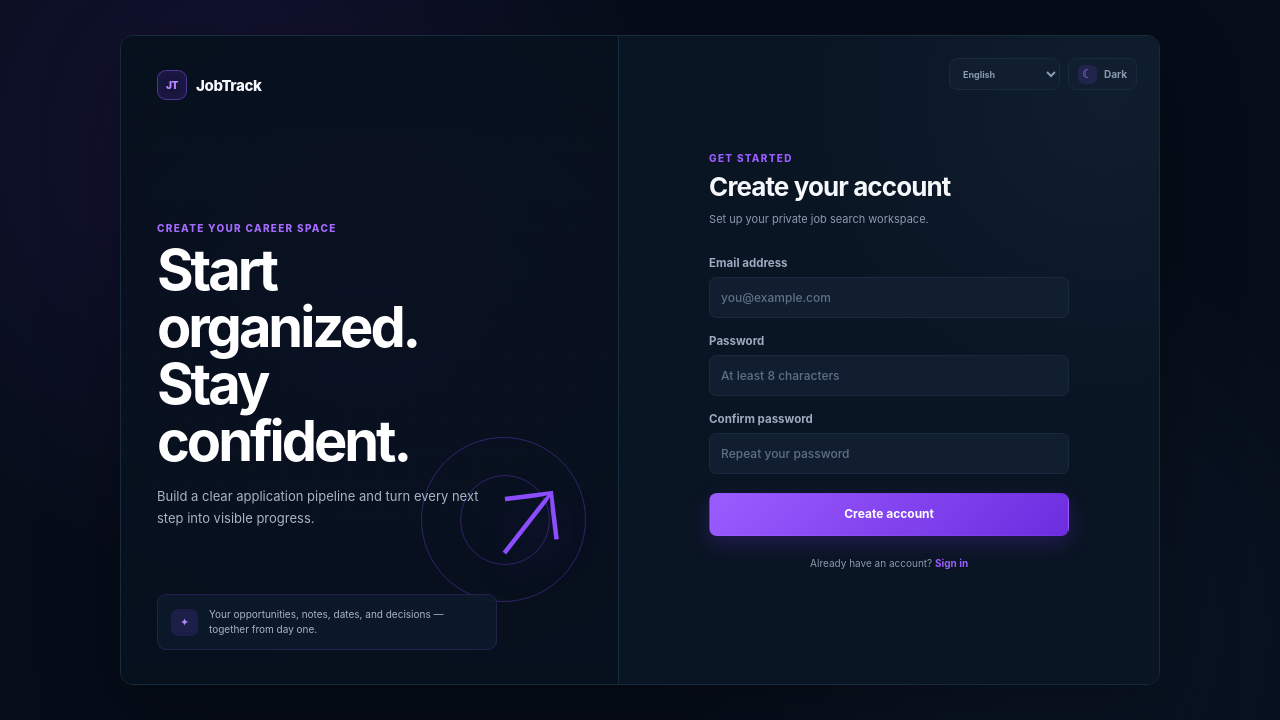
Test: RegisterPage › shows a registration error and does not log in
Type "New.User@Example.com" into the field labelled "Email address" at (889, 298), box [709,277,1069,318]
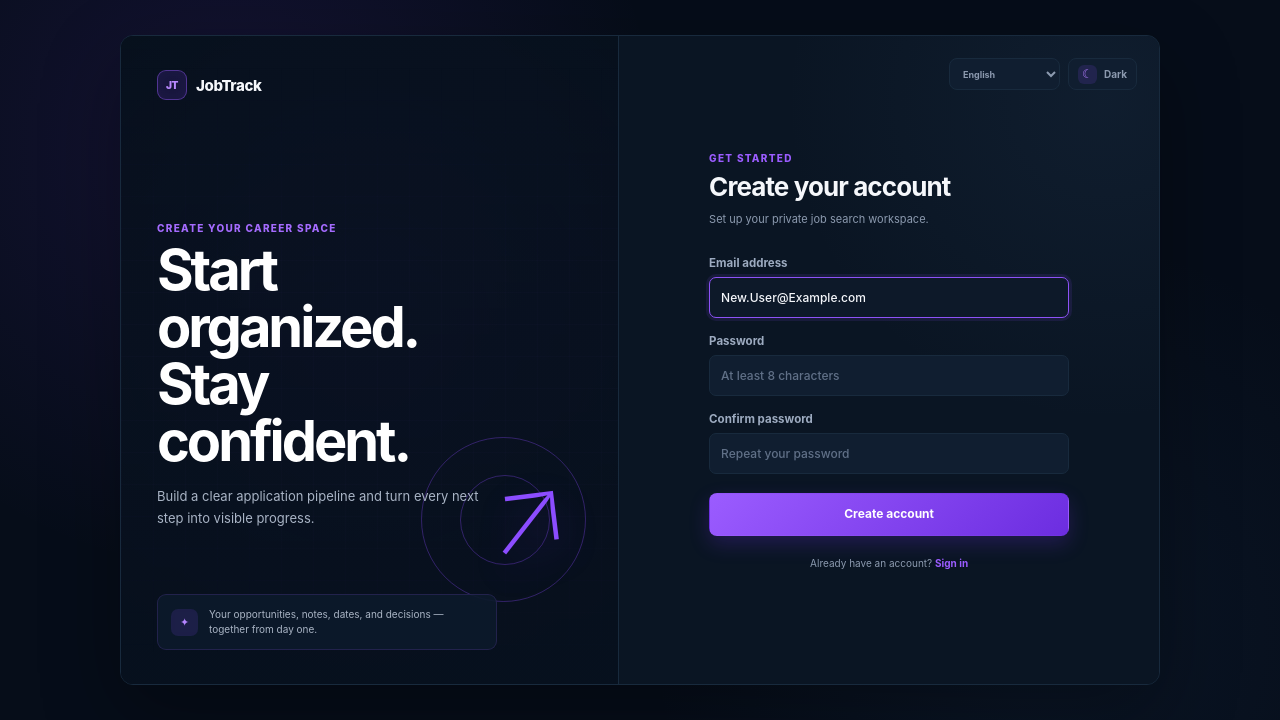
Type "password123" into the password field labelled "Password" at (889, 376), box [709,355,1069,396]
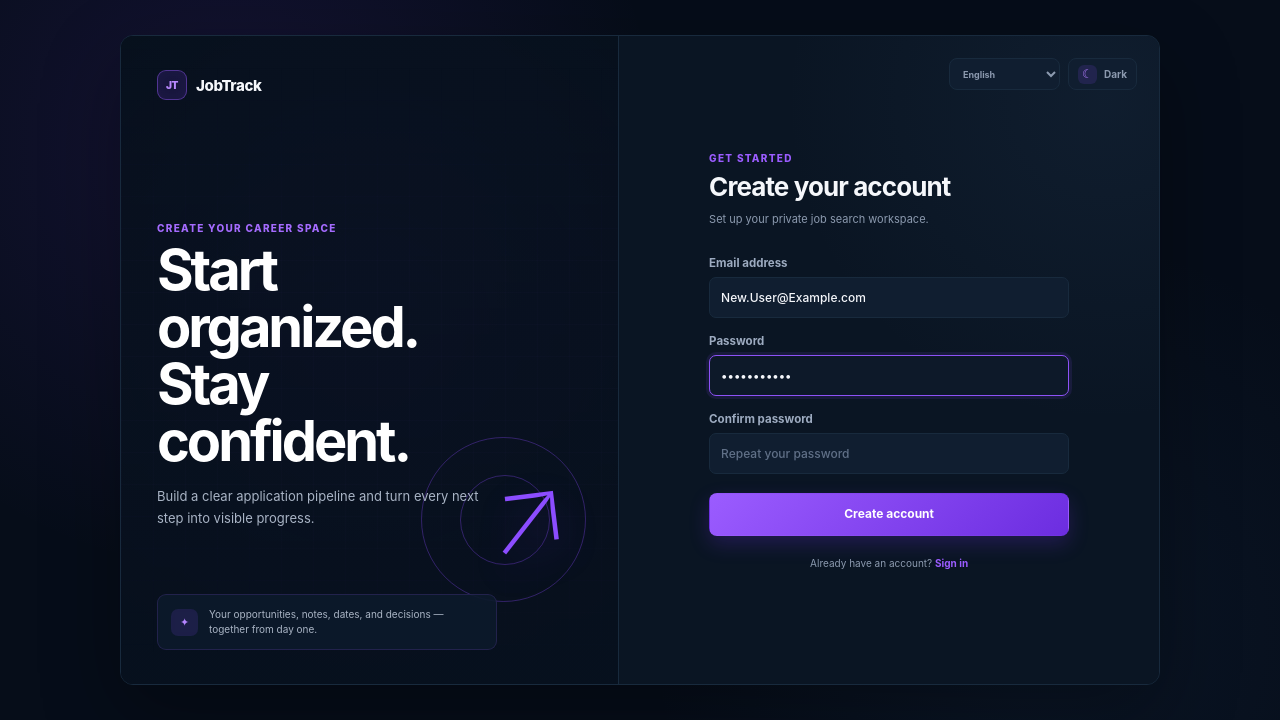
Type "password123" into the password field labelled "Confirm password" at (889, 454), box [709,433,1069,474]
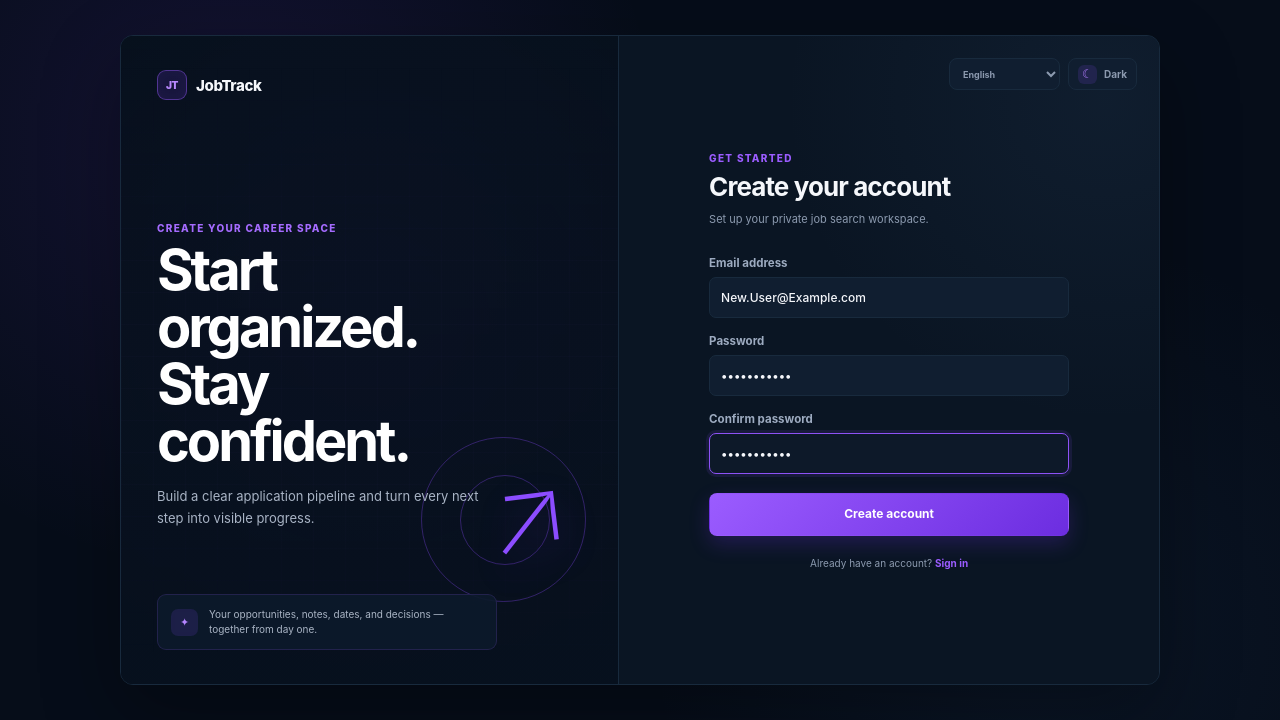
Click the button "Create account" at (889, 514), box [709,493,1069,536]
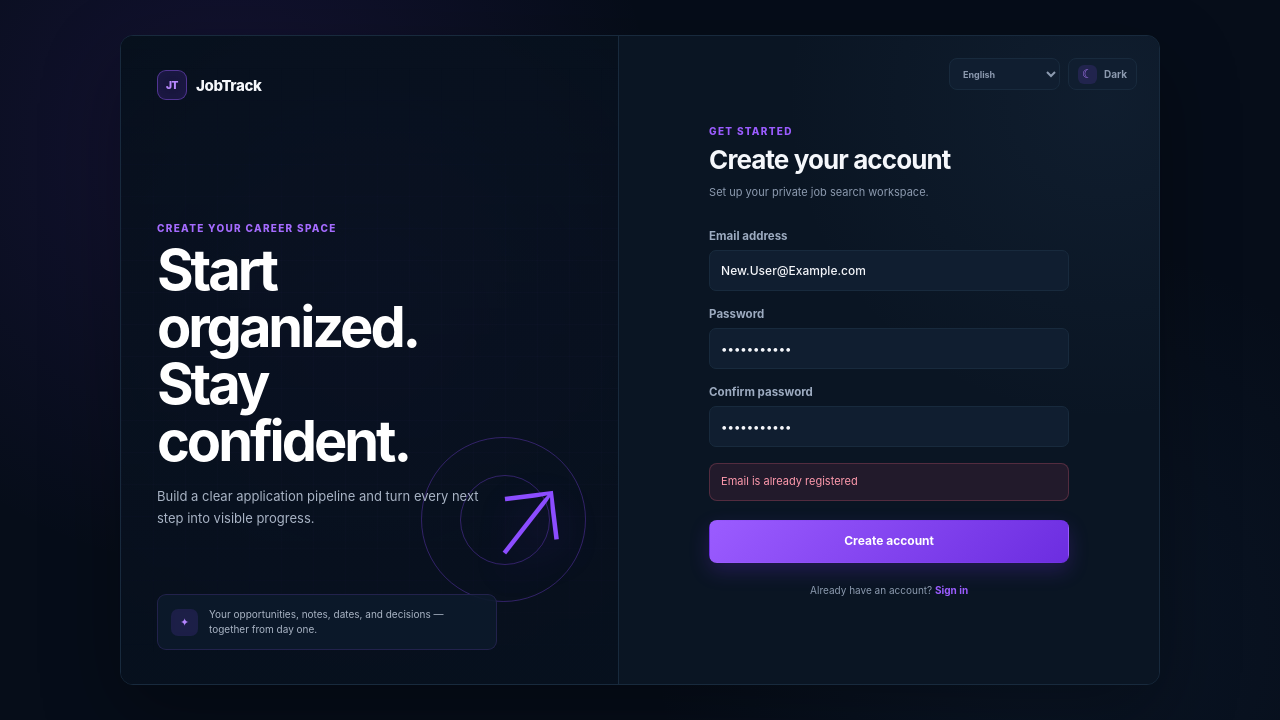
Expected: the message reads "Email is already registered", [721,474,858,488]
